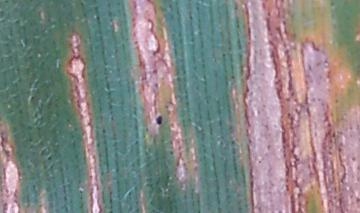tarspot: (154, 109, 164, 128)
